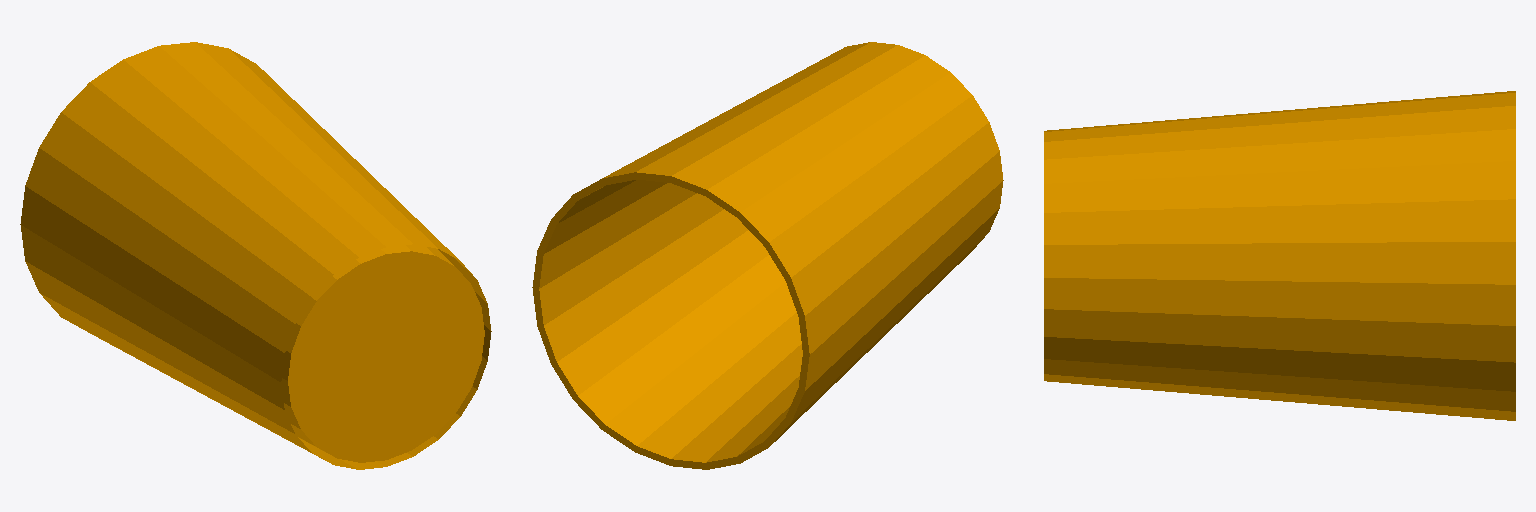
URDF robot description (urdf_robot):
<?xml version="0.0" ?>
<robot name="urdf_robot">
  <link name="base_link">
    <contact>
      <lateral_friction value="0.8"/>
      <rolling_friction value="0.01"/>
      <contact_cfm value="0.2"/>
      <contact_erp value="1.0"/>
    </contact>
    <inertial>
      <origin rpy="0 0 0" xyz="0 0 0"/>
       <mass value="1"/>
       <inertia ixx="1" ixy="0" ixz="0" iyx='0' iyy="1" iyz="0" izx="0" izy="0" izz="1"/>
    </inertial>
    <visual>
      <origin rpy="0 0 0" xyz="0 0 0"/>
      <geometry>
				<mesh filename="cup.obj" scale=".12 .12 .12"/>
      </geometry>
      <material name="blue">
        <color rgba="0.23 0.22, 0.96 1"/>
      </material>
    </visual>
    <collision>
      <origin rpy="0 0 0" xyz="0 0 0"/>
      <geometry>
				<mesh filename="cup.obj" scale=".12 .12 .12"/>      
      </geometry>
    </collision>
  </link>
</robot>

--- Facts derived from the render (not from the file) ---
Views: 3 orthographic renders of the robot side by side, from view 1: azimuth 30°, elevation 25°; view 2: azimuth 150°, elevation 25°; view 3: azimuth 270°, elevation 25°.
Model urdf_robot with 1 links and 0 joints (none), rooted at base_link, posed all joints at 0.
Visible links, largest first — view 1: base_link; view 2: base_link; view 3: base_link.
Boxes of the visible links, x1,y1,x2,y2 form: base_link: (20,42,491,469); base_link: (532,42,1003,469); base_link: (1044,91,1515,420).
Size in the robot's own frame: 0.0845 by 0.12 by 0.0845 metres.
1 mesh visuals loaded from 1 distinct referenced files (1 OBJ).